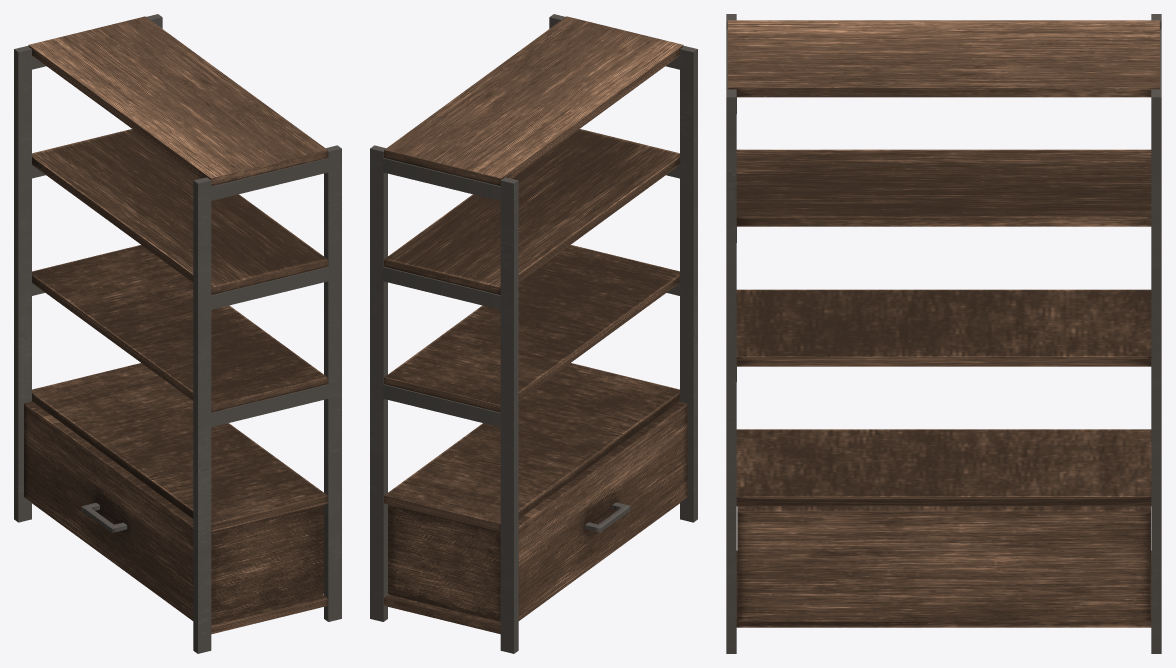
Rendered from closet (1).fbx.
3 renders of one model, left to right at view 1: azimuth 30°, elevation 25°; view 2: azimuth 150°, elevation 25°; view 3: azimuth 270°, elevation 25°, orthographic. The views are drawn at different scales.
Parts seen in each view (by area): view 1: Cube.005, Cube.012, Cube.011, Cube.009; view 2: Cube.005, Cube.012, Cube.011, Cube.009; view 3: Cube.005, Cube.011, Cube.012.
Boxes of the visible parts, <box> form: Cube.005: <box>28,16,327,634</box>; Cube.012: <box>14,14,341,653</box>; Cube.011: <box>24,401,323,621</box>; Cube.009: <box>81,503,127,532</box>; Cube.005: <box>384,16,683,634</box>; Cube.012: <box>370,14,697,653</box>; Cube.011: <box>388,401,687,621</box>; Cube.009: <box>585,502,630,532</box>; Cube.005: <box>727,20,1159,627</box>; Cube.011: <box>737,506,1150,621</box>; Cube.012: <box>726,14,1161,653</box>.
Size of the model in its own units: 84.68 by 249 by 176.
3 materials, 3 textured.
